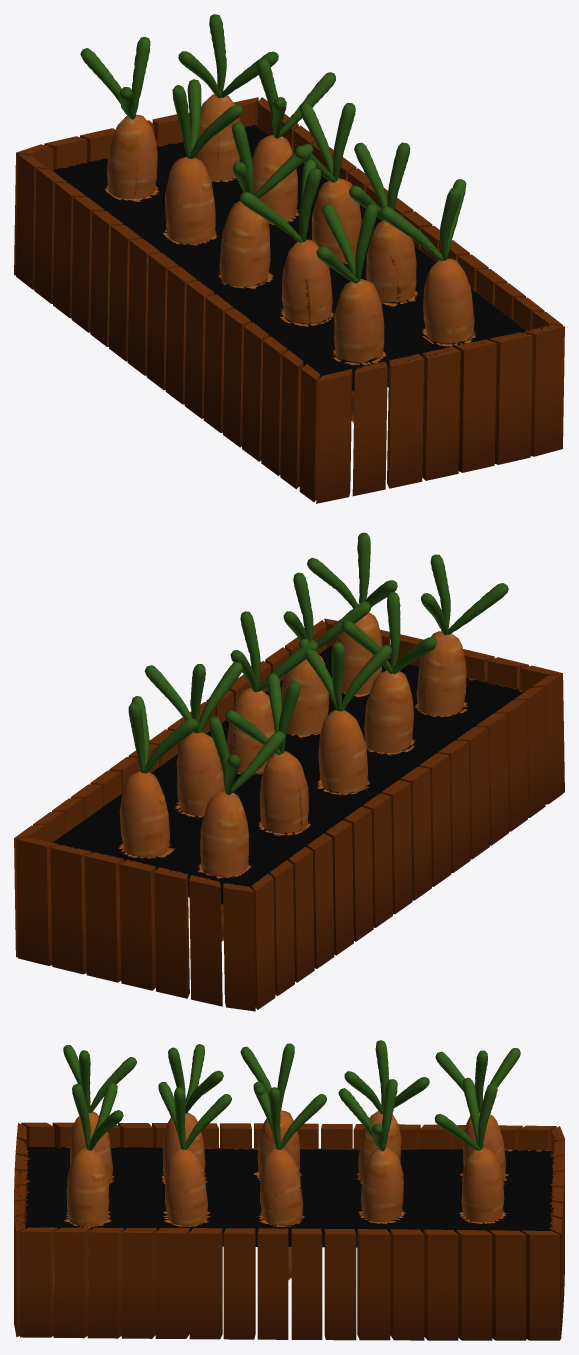
Rendered from carrot.glb.
The picture shows the model from 3 angles, top to bottom: view 1: azimuth 30°, elevation 25°; view 2: azimuth 150°, elevation 25°; view 3: azimuth 270°, elevation 25°; orthographic projection. The views are drawn at different scales.
Parts seen in each view (by area): view 1: 2; view 2: 2; view 3: 2.
Part boxes in pixels (left/top/right/bottom): 2: left=14, top=14, right=564, bottom=503; 2: left=14, top=532, right=564, bottom=1011; 2: left=14, top=1040, right=564, bottom=1340.
Bounding box in the file's own units: 0.9139 × 0.8651 × 1.95.
Materials: 1 (1 with a texture image).
